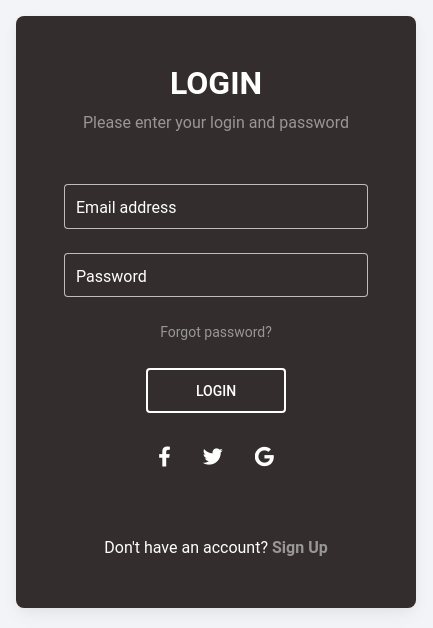
it: opens the sign-up form
Step 1. Click the link "Sign Up" → (300, 547), box [272,538,328,557]
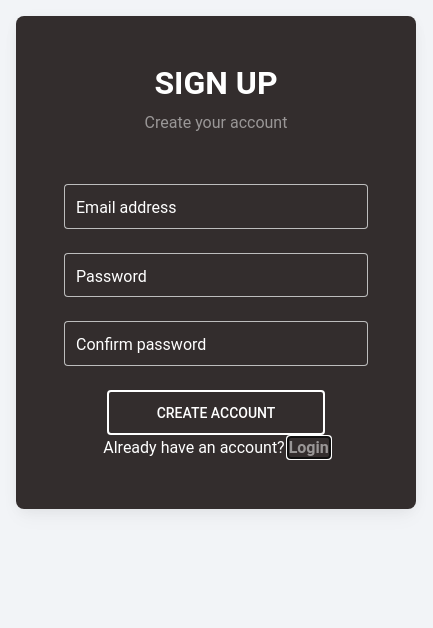
Result: the heading "Sign Up" is shown at [154,64,278,102]
Result: the password field labelled "Confirm password" is shown at [64,321,368,366]
